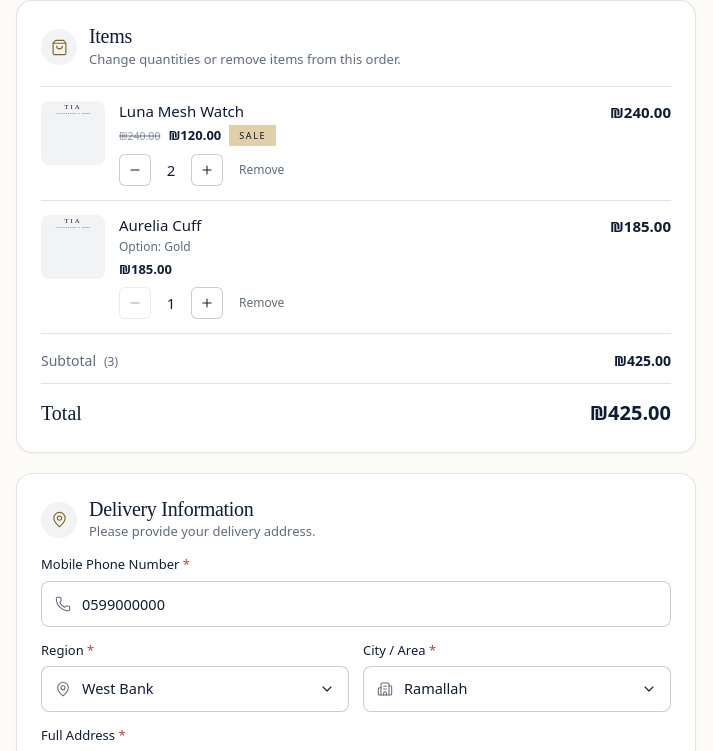
OrderEditForm › never goes below 1 and never above the available stock
The width and height of the screenshot is (713, 751).
Expected: the button named "Decrease quantity" below "Gold" is disabled, [119,287,151,319]
Click the button named "Increase quantity" below "Gold": (207, 303) [191,287,223,319]
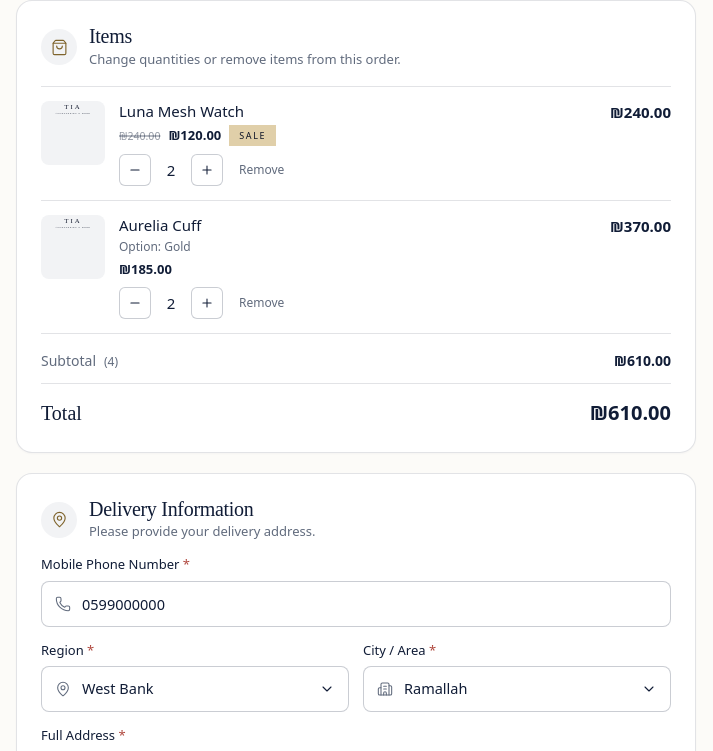
Click the button named "Increase quantity" below "₪185.00": (207, 303) [191,287,223,319]
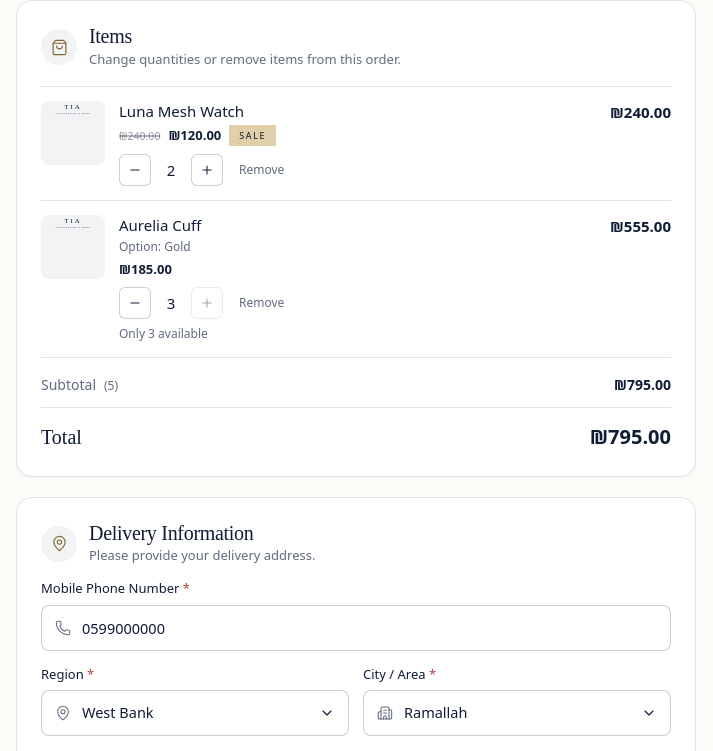
Now the button named "Increase quantity" below "₪185.00" is disabled, box [191,287,223,319]
Now the text "Only 3 available" is shown, box [119,325,208,342]
